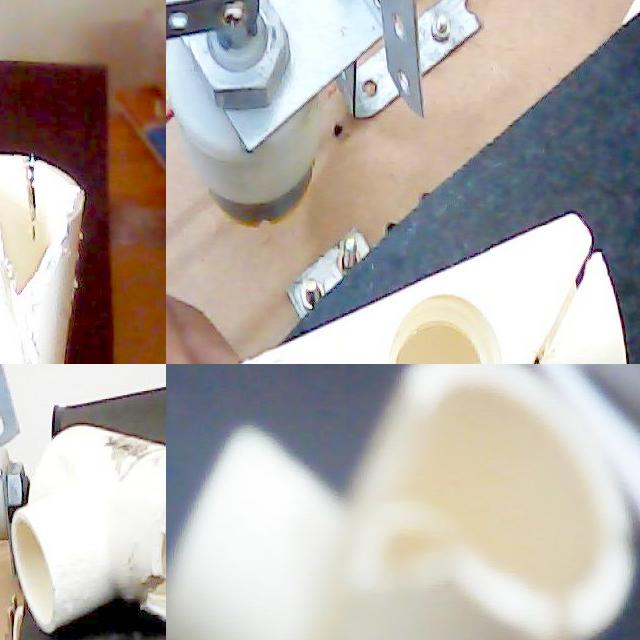Defective: (325, 395, 466, 589), (490, 226, 602, 364), (122, 424, 166, 640), (0, 186, 65, 330), (483, 594, 588, 640), (14, 143, 47, 255), (4, 326, 53, 364)
T Joint: (11, 426, 166, 635), (0, 155, 86, 364)
